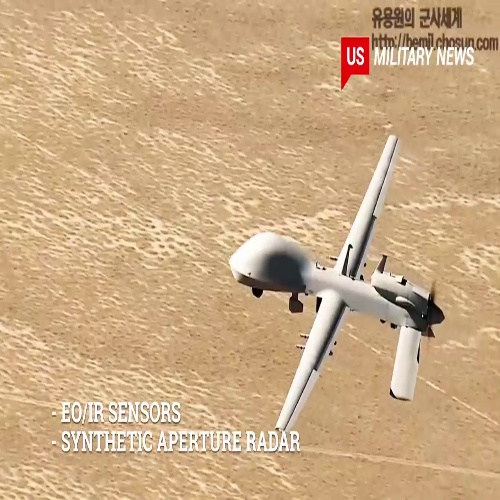uav183: (231, 133, 451, 435)
